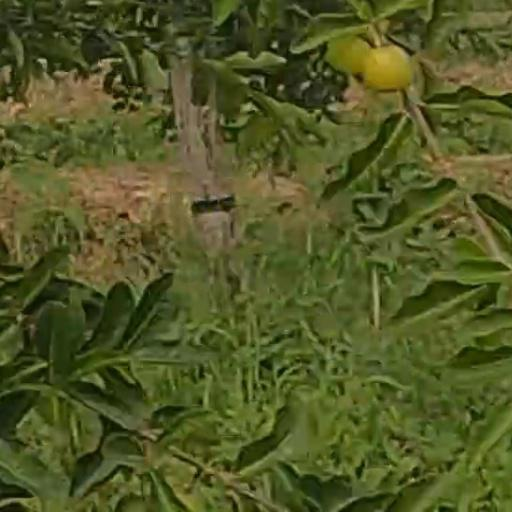acerola: (364, 50, 412, 93), (324, 36, 362, 74)
